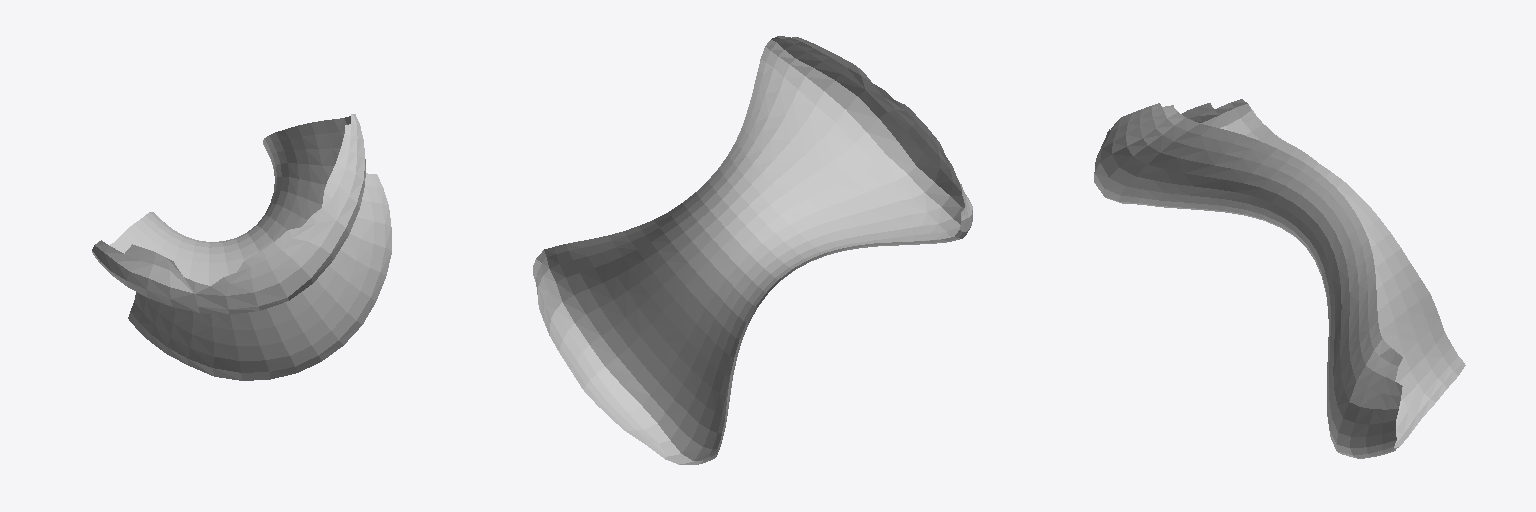
The model's file is Last_ex_2_mesh_opt.obj.
The picture shows the model from 3 angles: view 1: azimuth 30°, elevation 25°; view 2: azimuth 150°, elevation 25°; view 3: azimuth 270°, elevation 25°; orthographic projection.
Size of the model in its own units: 2.17 by 1.99 by 1.96.